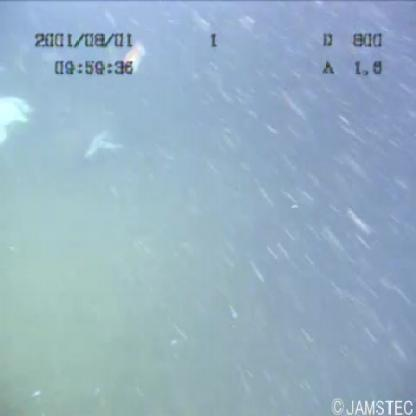Bio: (117, 40, 152, 72)
Rác: (1, 90, 46, 152), (73, 120, 129, 165)
